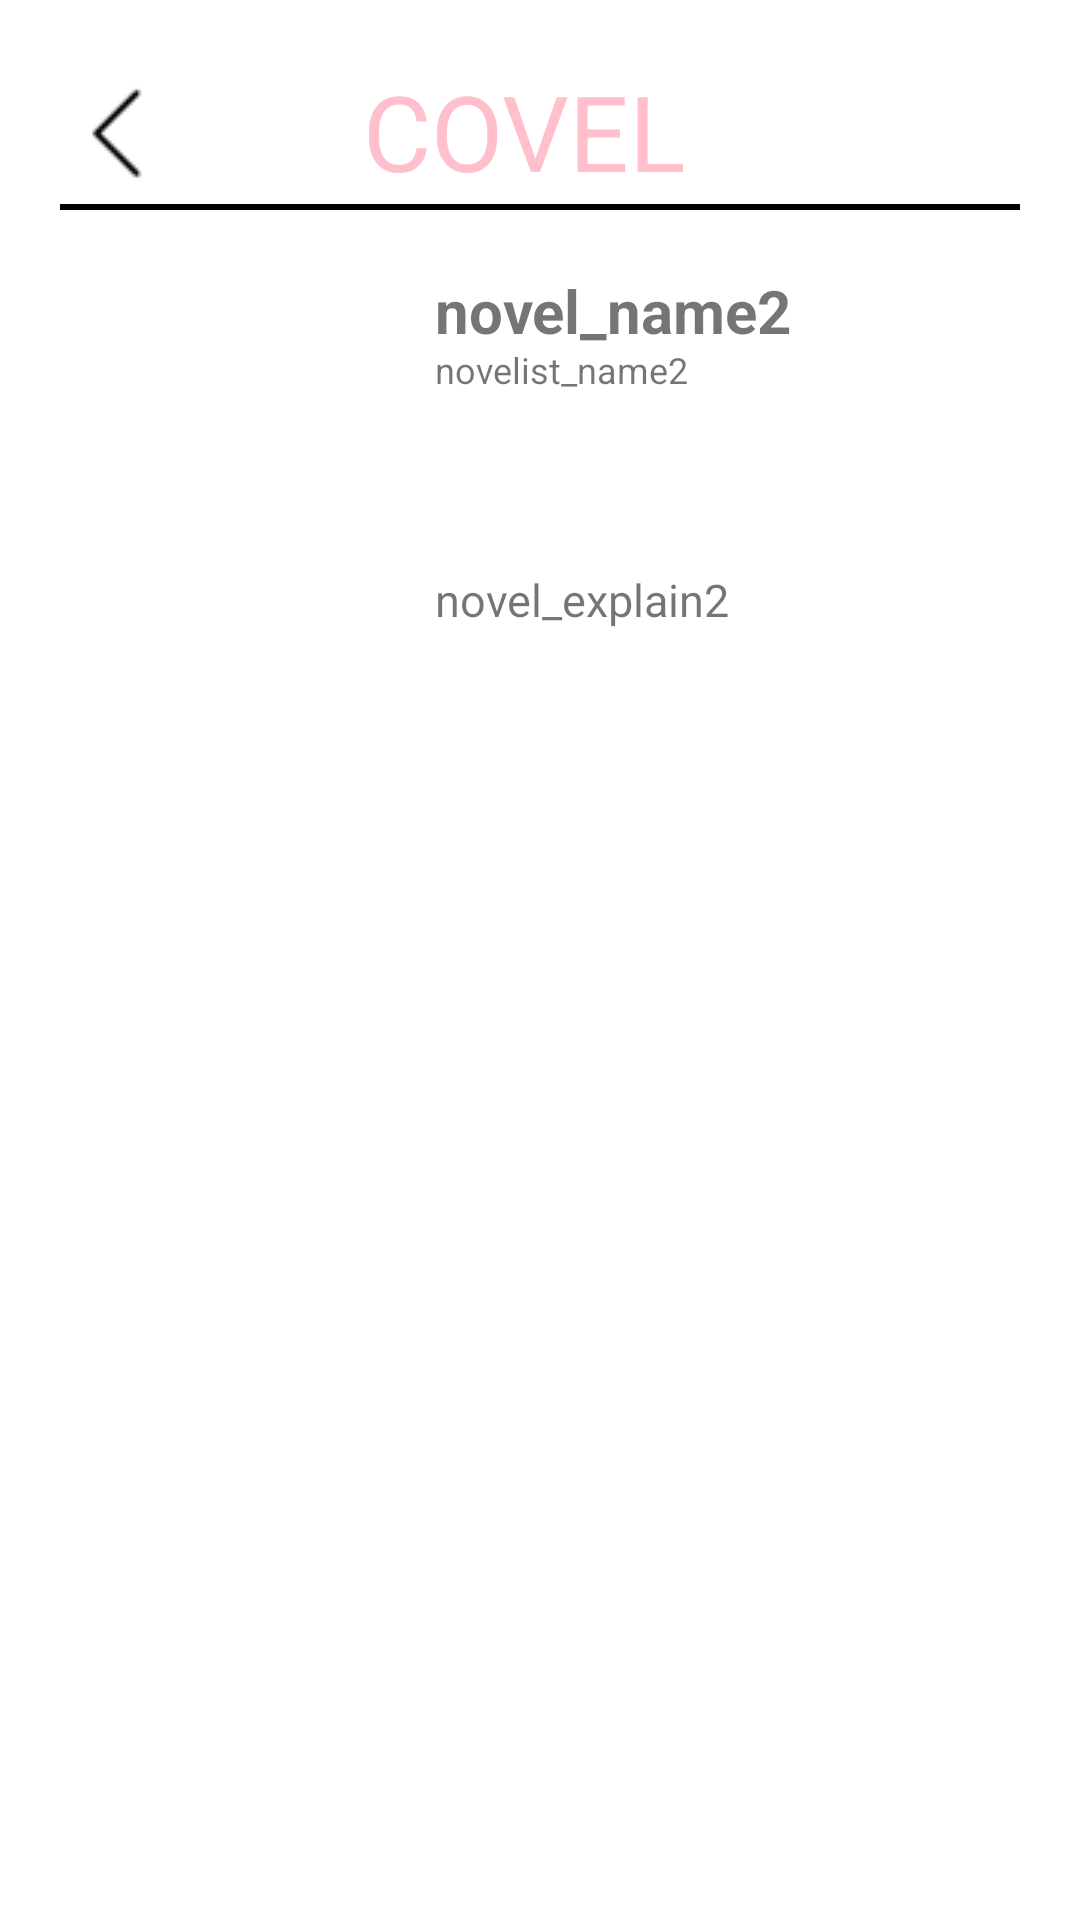

Screen size 1080x1920. Icon name, then its center in pixels as (x,y):
backbutton: (117,133)
